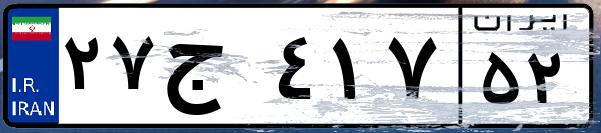1: (330, 28, 385, 110)
2: (57, 26, 110, 100), (525, 38, 570, 115)
4: (270, 28, 330, 110)
5: (475, 38, 525, 113)
7: (385, 28, 445, 110), (110, 28, 158, 98)
ج: (158, 20, 270, 120)
